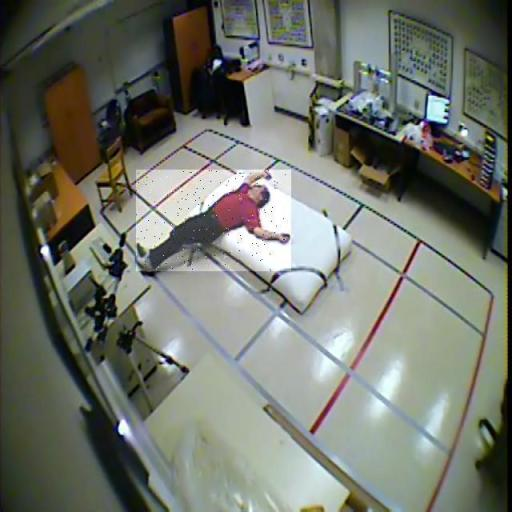Fall: (136, 170, 291, 271)
